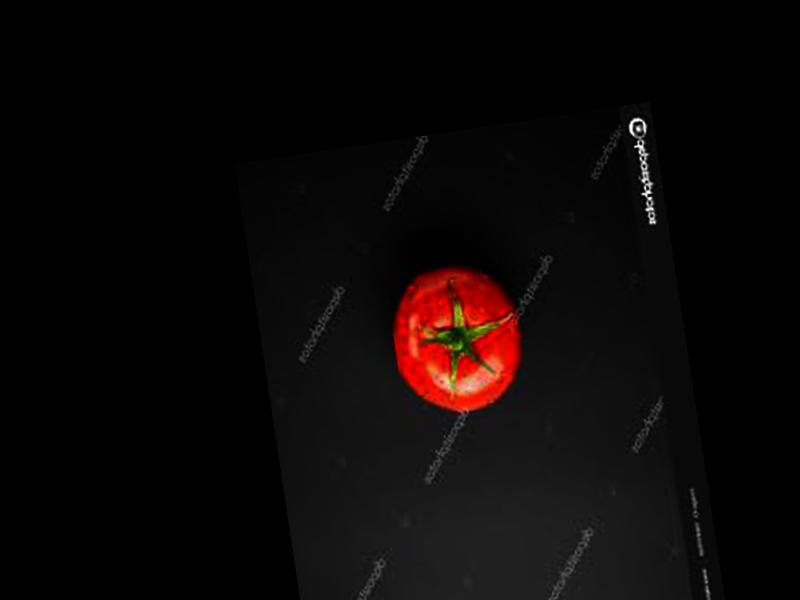Tomato: (382, 257, 532, 423)
